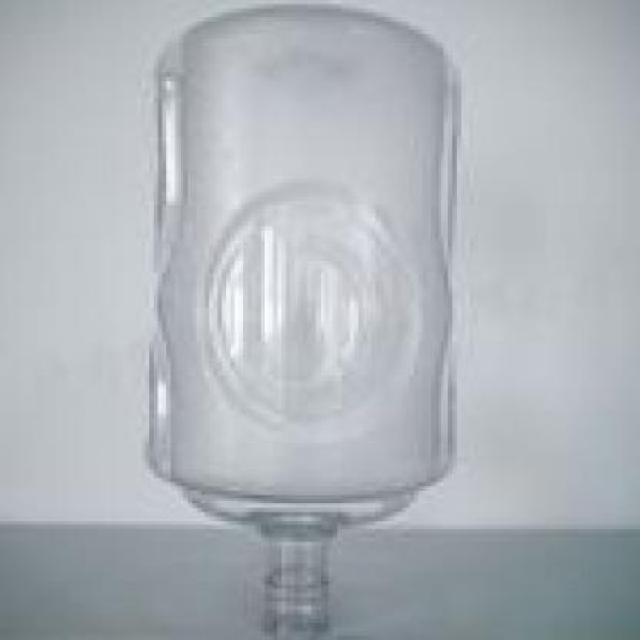coolerbottle: (140, 0, 463, 640)
